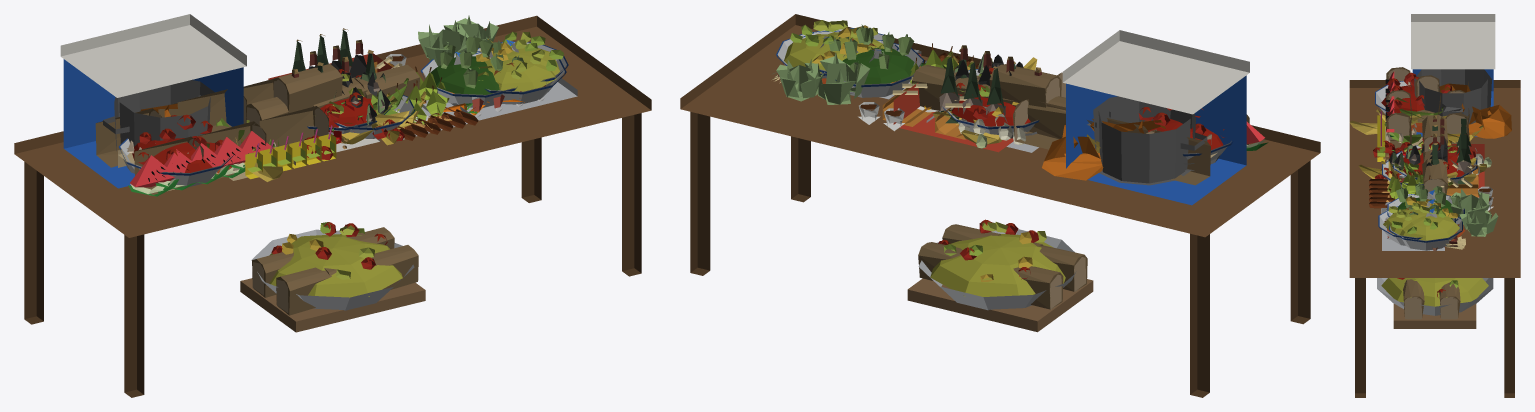
The model's file is food.glb.
3 renders of one model, left to right at view 1: azimuth 30°, elevation 25°; view 2: azimuth 150°, elevation 25°; view 3: azimuth 270°, elevation 25°, orthographic. The views are drawn at different scales.
Visible parts, largest first — view 1: stall-drinks, stall-tomato, stall-plantain, stall-bread, head-bread, stall-fruit, stall-chopbar, head-oranges, stall-eggs, table-bread, head-tomato, stall-kelewele (+2 smaller); view 2: stall-drinks, stall-tomato, stall-chopbar, stall-fruit, stall-bread, head-bread, stall-plantain, head-oranges, stall-eggs, table-bread, head-tomato, table-tomato (+2 smaller); view 3: stall-drinks, stall-plantain, stall-fruit, stall-tomato, stall-bread, stall-eggs, stall-chopbar, head-bread, head-oranges, table-bread, stall-kelewele, table-tomato (+3 smaller).
Boxes of the visible parts, bbox=[...] form: stall-drinks: bbox=[14, 14, 651, 391]; stall-tomato: bbox=[25, 20, 634, 392]; stall-plantain: bbox=[14, 15, 651, 394]; stall-bread: bbox=[24, 56, 634, 392]; head-bread: bbox=[240, 227, 425, 332]; stall-fruit: bbox=[24, 31, 634, 391]; stall-chopbar: bbox=[24, 54, 641, 397]; head-oranges: bbox=[251, 222, 414, 297]; stall-eggs: bbox=[24, 15, 634, 388]; table-bread: bbox=[246, 64, 419, 125]; head-tomato: bbox=[262, 222, 393, 310]; stall-kelewele: bbox=[27, 100, 534, 326]; stall-drinks: bbox=[680, 16, 1319, 385]; stall-tomato: bbox=[680, 15, 1297, 394]; stall-chopbar: bbox=[681, 19, 1309, 397]; stall-fruit: bbox=[680, 16, 1297, 393]; stall-bread: bbox=[681, 14, 1297, 394]; head-bread: bbox=[907, 224, 1093, 332]; stall-plantain: bbox=[690, 14, 1320, 347]; head-oranges: bbox=[918, 222, 1076, 296]; stall-eggs: bbox=[690, 17, 1297, 392]; table-bread: bbox=[912, 64, 1065, 138]; head-tomato: bbox=[938, 219, 1071, 310]; table-tomato: bbox=[951, 67, 1030, 126]; stall-drinks: bbox=[1349, 14, 1520, 387]; stall-plantain: bbox=[1349, 80, 1520, 393]; stall-fruit: bbox=[1355, 71, 1514, 392]; stall-tomato: bbox=[1350, 72, 1520, 393]; stall-bread: bbox=[1350, 67, 1519, 392]; stall-eggs: bbox=[1350, 80, 1520, 392]; stall-chopbar: bbox=[1355, 69, 1514, 397]; head-bread: bbox=[1393, 279, 1476, 328]; head-oranges: bbox=[1377, 278, 1493, 306]; table-bread: bbox=[1422, 115, 1447, 194]; stall-kelewele: bbox=[1355, 85, 1519, 379]; table-tomato: bbox=[1393, 136, 1477, 176].
Bounding box in the file's own units: 2.5 × 1.3 × 0.9514.
